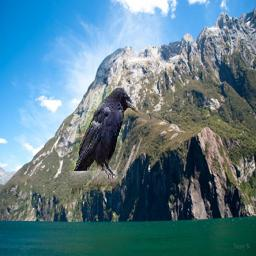Crow: (70, 86, 139, 202)
